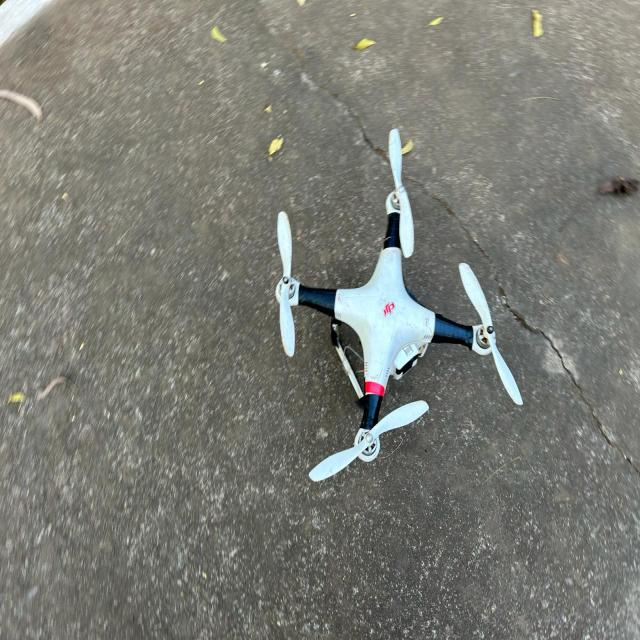drone: (182, 95, 581, 519)
